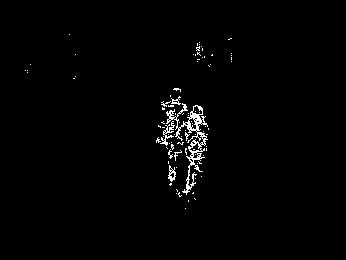person: (157, 85, 186, 188), (182, 106, 209, 193)
